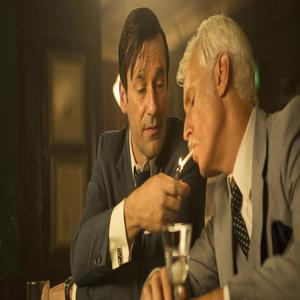cigarette: (180, 145, 196, 169)
